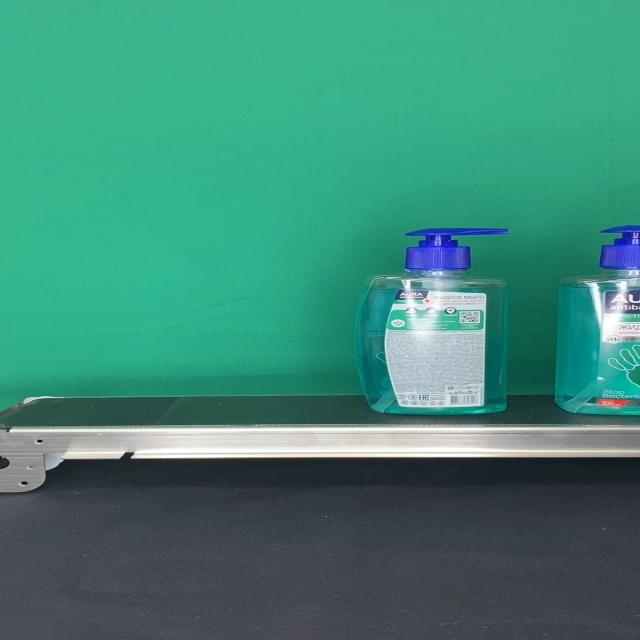Bottle: (359, 227, 507, 413)
Cap: (402, 228, 508, 270)
